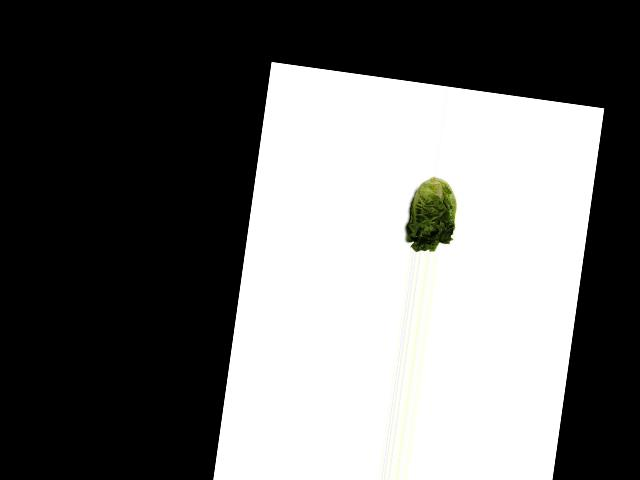lettuce: (400, 173, 465, 254)
